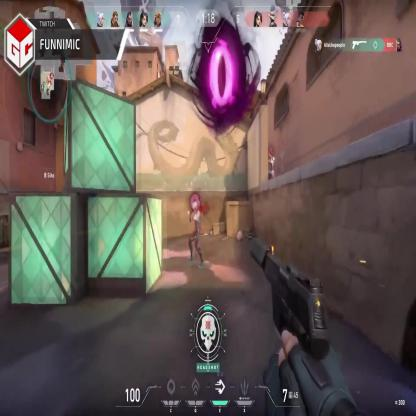enemy: (189, 201, 202, 265), (266, 152, 275, 184)
enemy_head: (192, 200, 198, 212), (268, 149, 273, 159)
